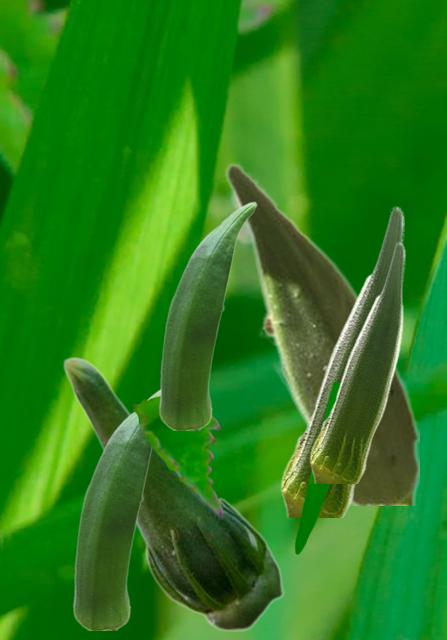okra: (224, 161, 418, 504), (62, 356, 283, 631), (280, 205, 403, 516), (309, 241, 404, 482), (158, 201, 256, 429), (72, 389, 159, 629)
